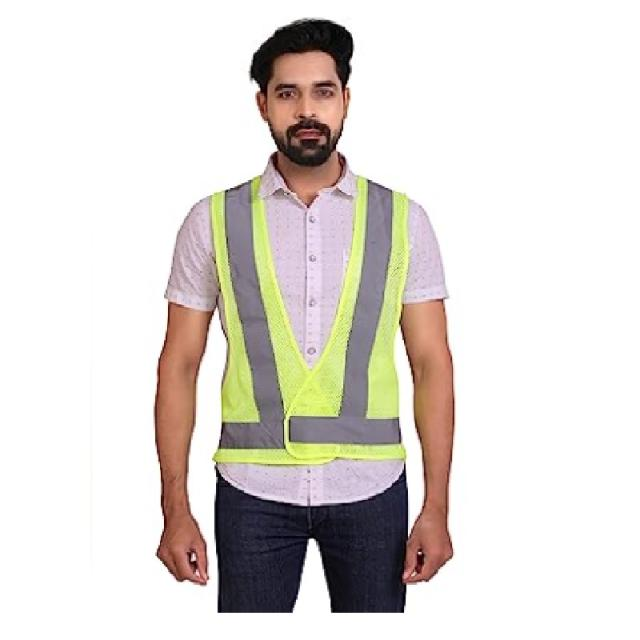safety_jacket: (206, 181, 411, 466)
